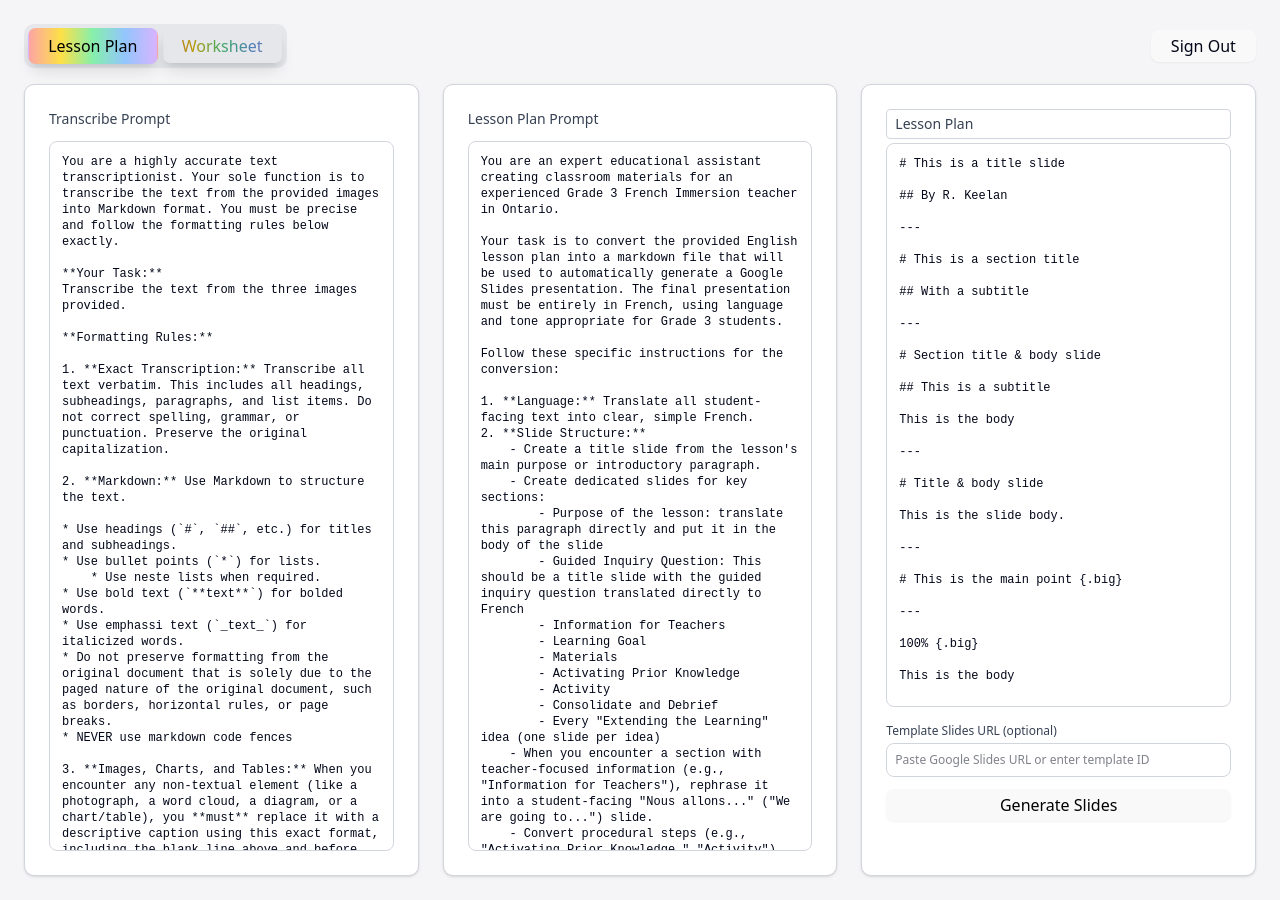
App › should handle slide generation error
Click the button "Generate Slides": coordinates (1059, 805) [886, 789, 1231, 821]
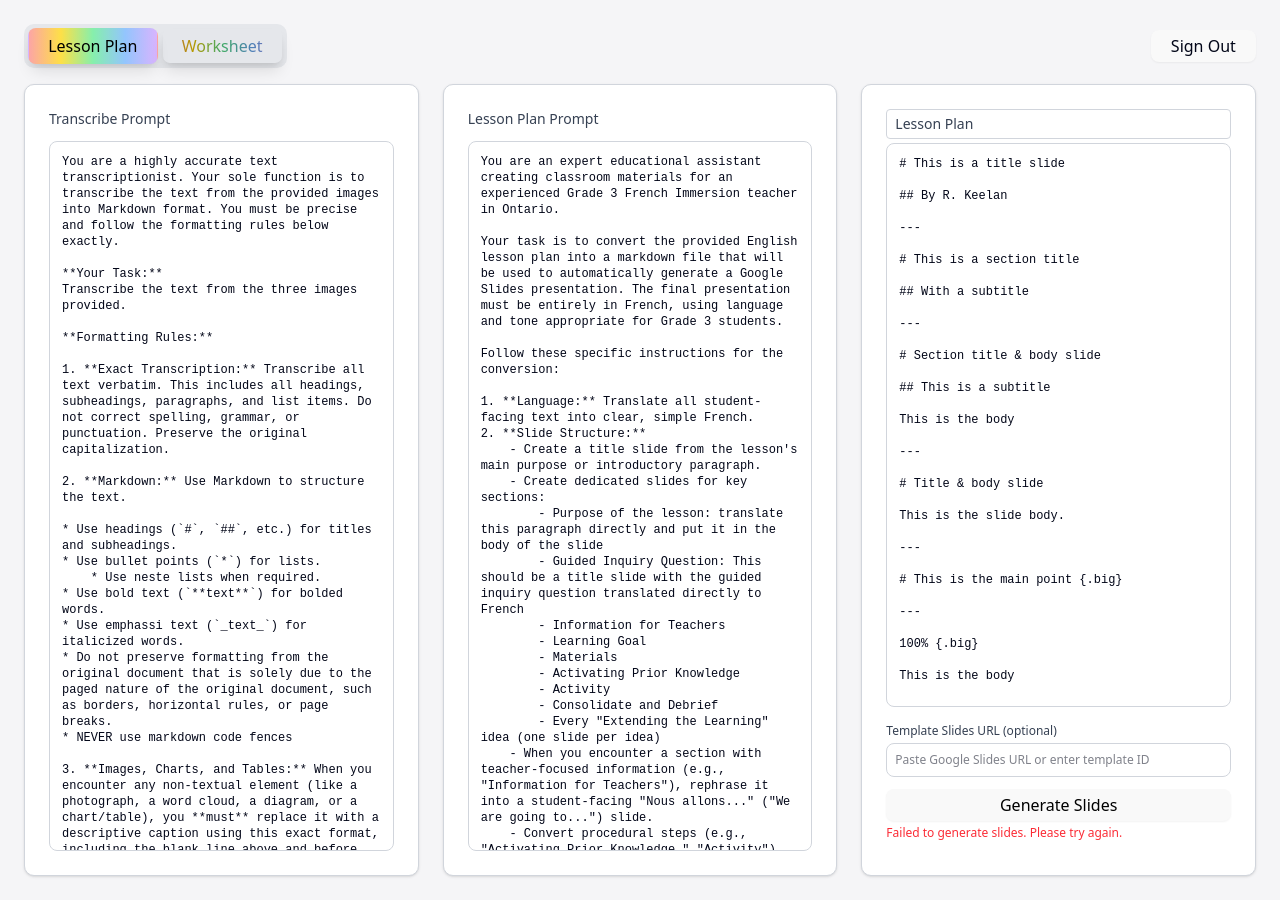
Expected: the text "Failed to generate slides. Please try again." is shown, [886, 824, 1122, 841]
